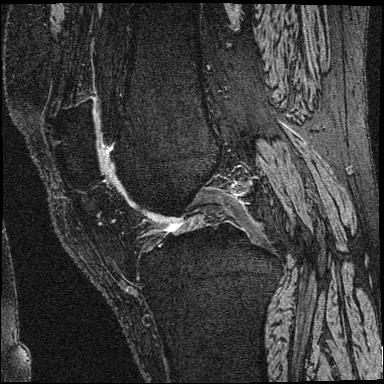SagKneeJointArea: (46, 98, 284, 306)
